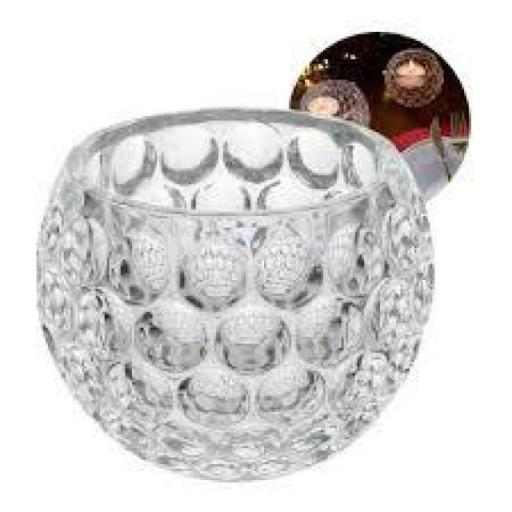glass: (24, 90, 448, 496)
